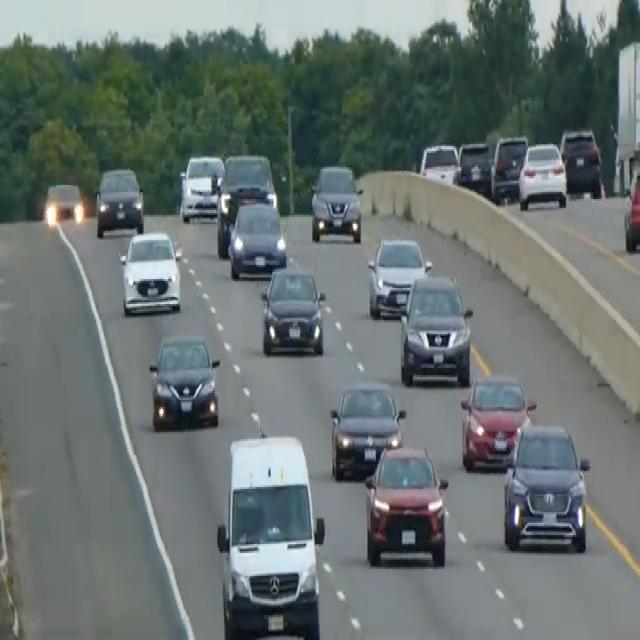car: (502, 419, 591, 553), (363, 439, 449, 567), (398, 272, 473, 386), (328, 379, 405, 480), (459, 370, 535, 471), (148, 331, 220, 430), (215, 151, 277, 256), (259, 263, 326, 356), (118, 228, 182, 316), (367, 235, 432, 318), (227, 197, 287, 279), (309, 162, 363, 244), (94, 164, 144, 236), (518, 140, 567, 210), (178, 151, 224, 221), (559, 126, 603, 198), (490, 133, 528, 203), (455, 138, 492, 194), (42, 180, 84, 228), (419, 140, 458, 185), (622, 165, 639, 252)
minibus: (214, 428, 326, 638)
